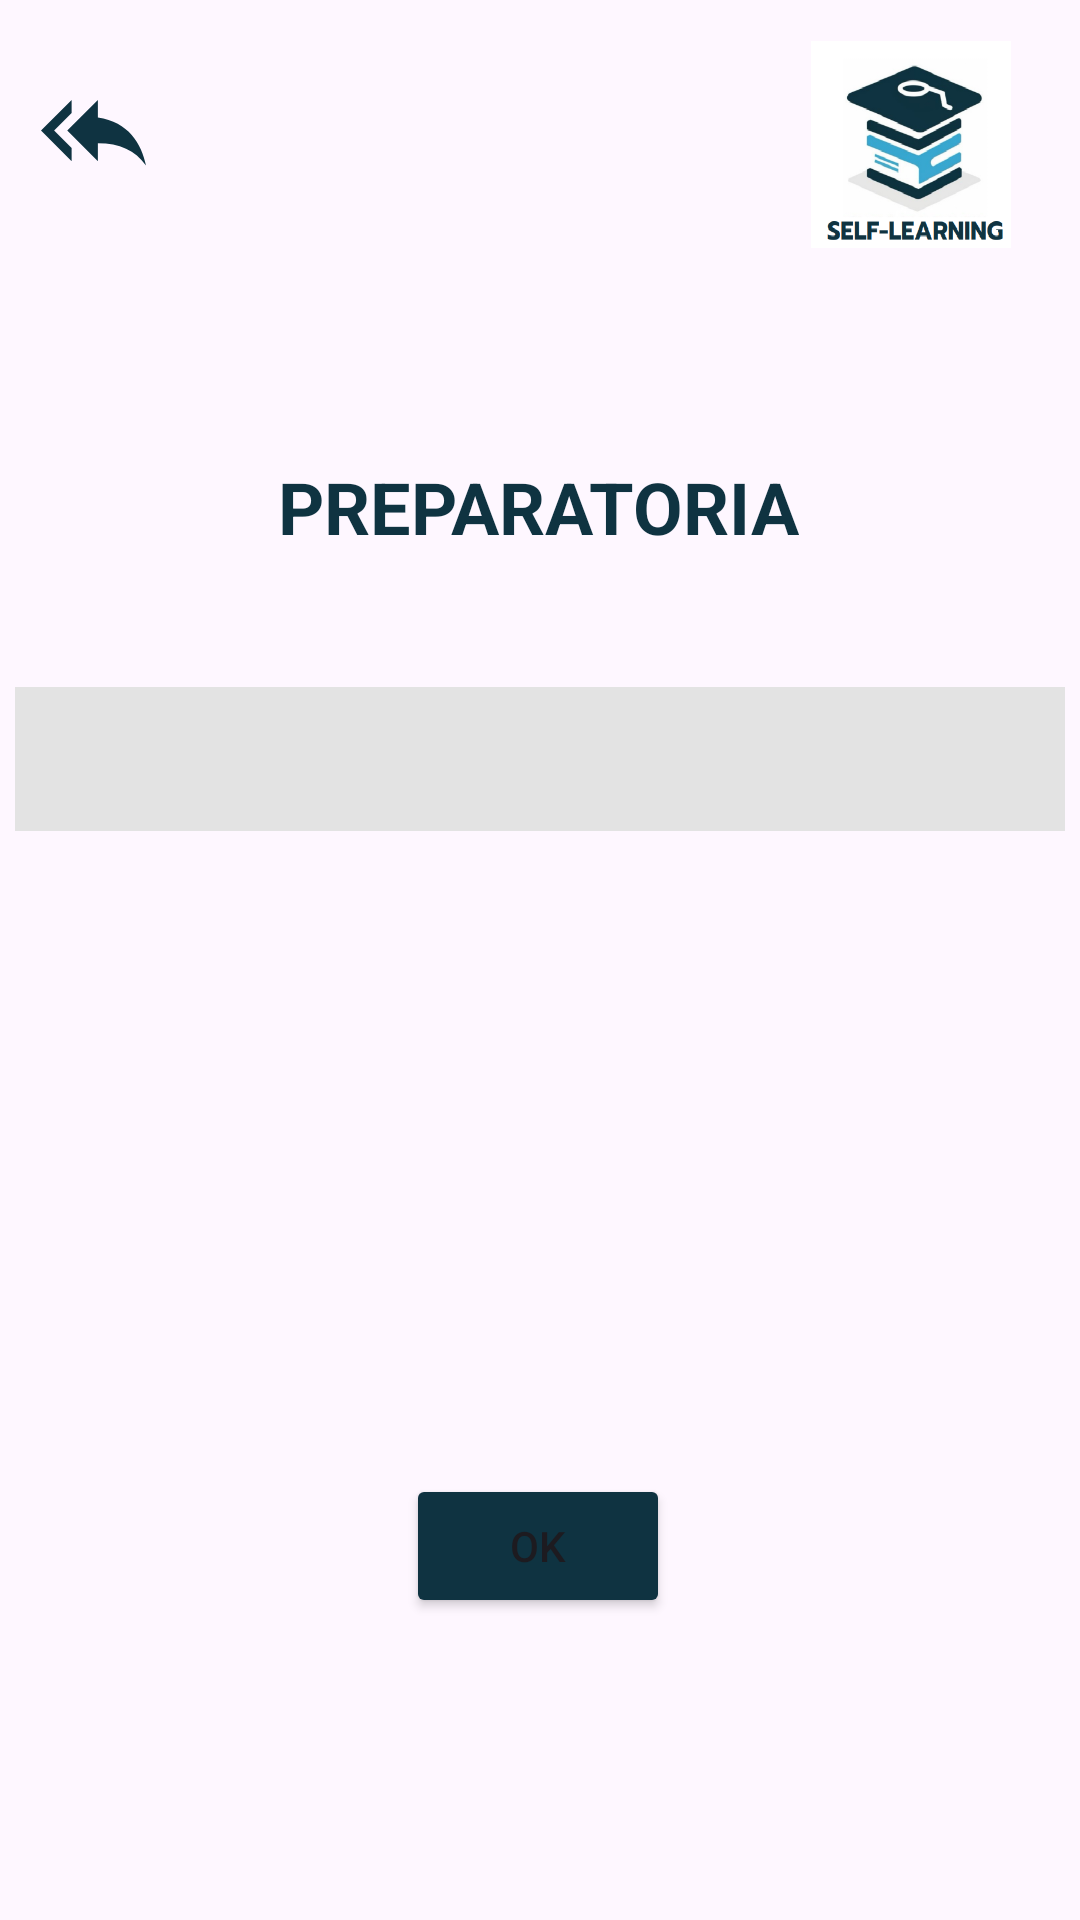

Icon bounding boxes for this 1080×1920 phone screenshot, format detection(x1, y1, x2, y2):
backimage: detection(41, 100, 146, 165)
